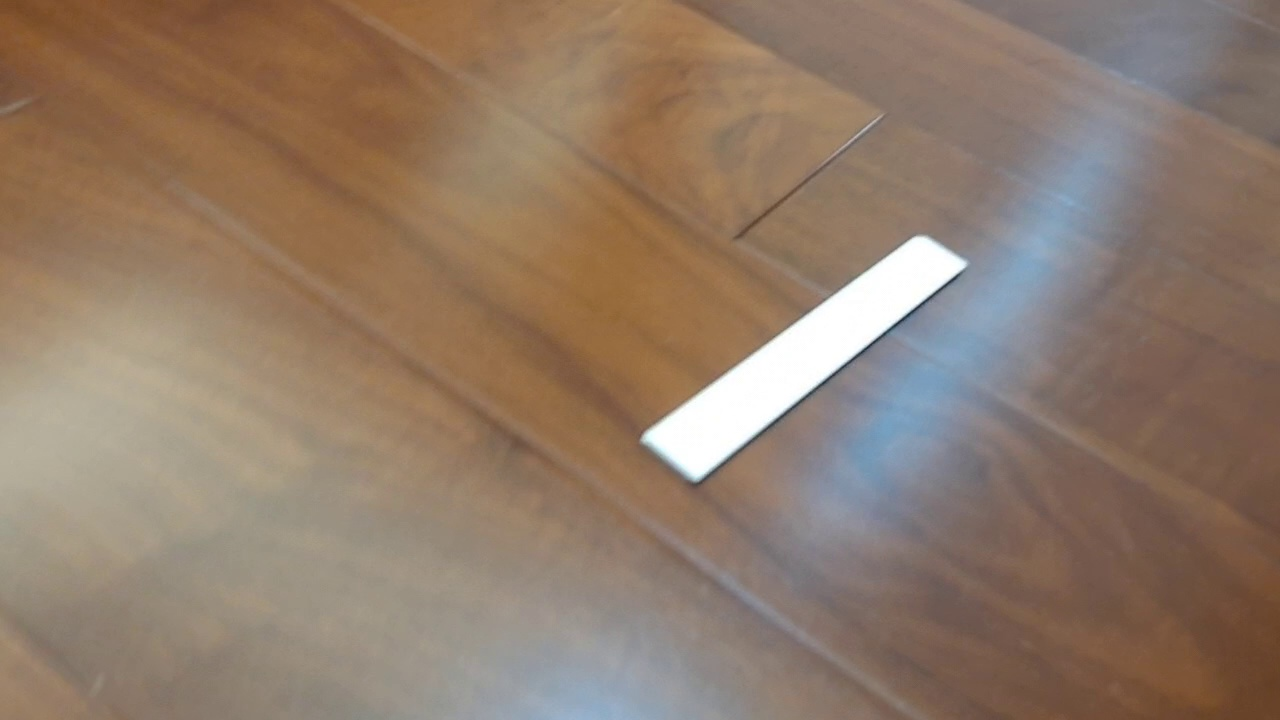ruler: (638, 233, 970, 487)
